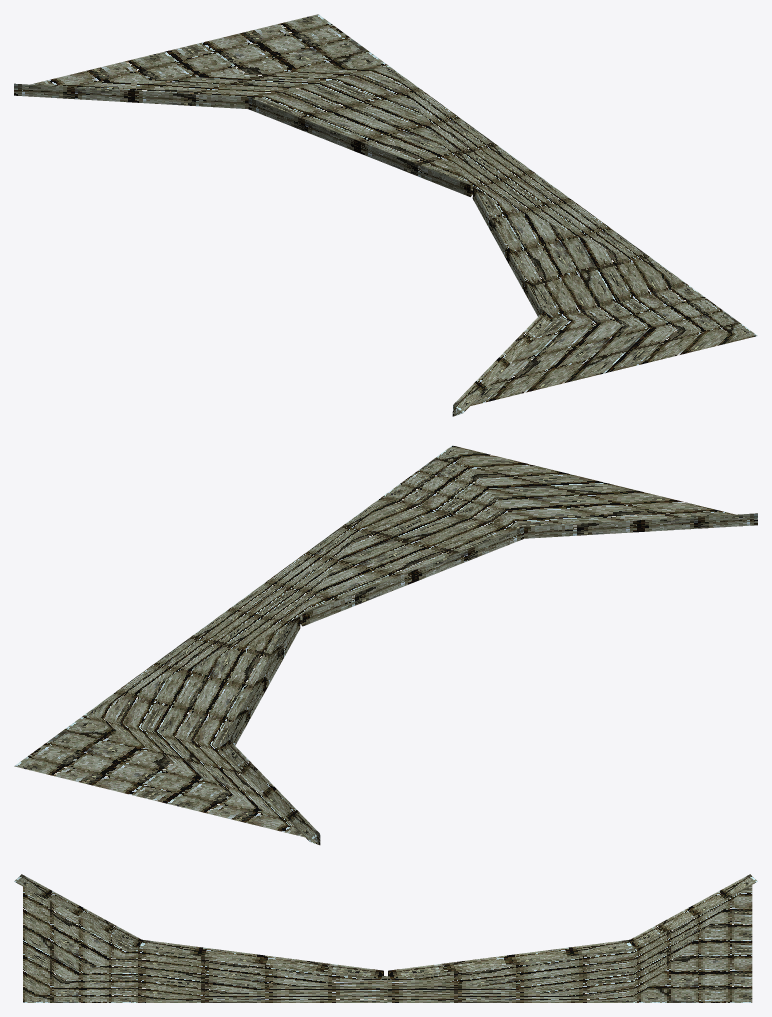
File: Dach_Abschluß_375.glb
3 views of the same model, one above another, from view 1: azimuth 30°, elevation 25°; view 2: azimuth 150°, elevation 25°; view 3: azimuth 270°, elevation 25° (orthographic). The views are drawn at different scales.
Visible parts, largest first — view 1: pPlaneShape2, pCylinderShape1, pCylinderShape2, pCylinderShape3, pCylinderShape4; view 2: pPlaneShape2, pCylinderShape4, pCylinderShape3, pCylinderShape2, pCylinderShape1; view 3: pPlaneShape2, pCylinderShape2, pCylinderShape3, pCylinderShape4, pCylinderShape1.
Part boxes in pixels (box(x1,y1,x2,y2)): pPlaneShape2: box(30, 14, 757, 409); pCylinderShape1: box(14, 83, 252, 108); pCylinderShape2: box(248, 97, 473, 196); pCylinderShape3: box(472, 187, 552, 317); pCylinderShape4: box(452, 311, 553, 416); pPlaneShape2: box(14, 445, 735, 839); pCylinderShape4: box(519, 513, 757, 538); pCylinderShape3: box(299, 527, 523, 626); pCylinderShape2: box(221, 616, 300, 745); pCylinderShape1: box(219, 740, 320, 845); pPlaneShape2: box(23, 884, 752, 1002); pCylinderShape2: box(388, 939, 632, 979); pCylinderShape3: box(139, 939, 383, 979); pCylinderShape4: box(14, 874, 143, 947); pCylinderShape1: box(628, 874, 757, 947).
Bounding box in the file's own units: 1.01 × 0.0375 × 2.58.
Materials: 5 (5 with a texture image).
